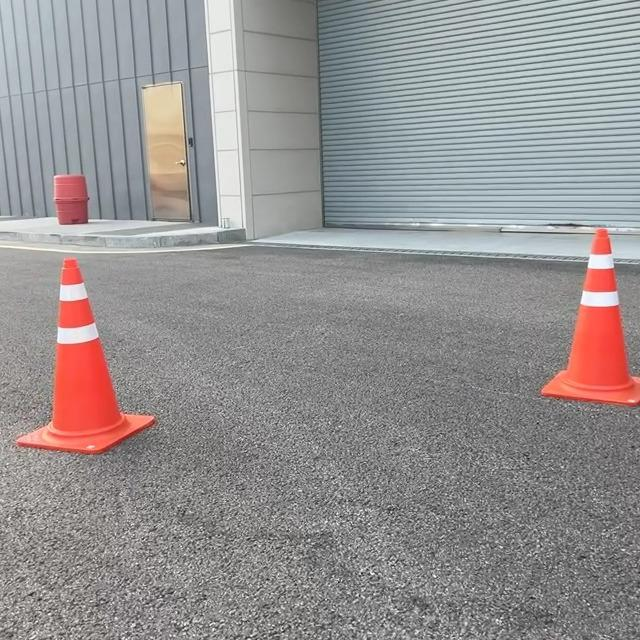fallen_object: (0, 270, 195, 451), (519, 205, 640, 435)
